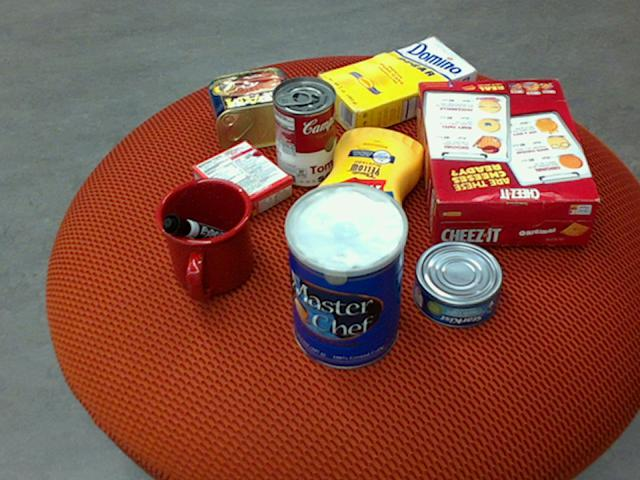cracker_box: (416, 78, 600, 244)
gelatin_box: (190, 139, 291, 224)
large_marker: (161, 214, 241, 251)
master_chef_can: (282, 184, 405, 370)
mug: (153, 178, 253, 301)
mustard_bottle: (308, 127, 424, 272)
potted_meat_can: (209, 66, 306, 151)
sugar_box: (316, 35, 477, 136)
tomato_soup_can: (272, 75, 336, 186)
tuna_fish_can: (413, 240, 504, 328)
